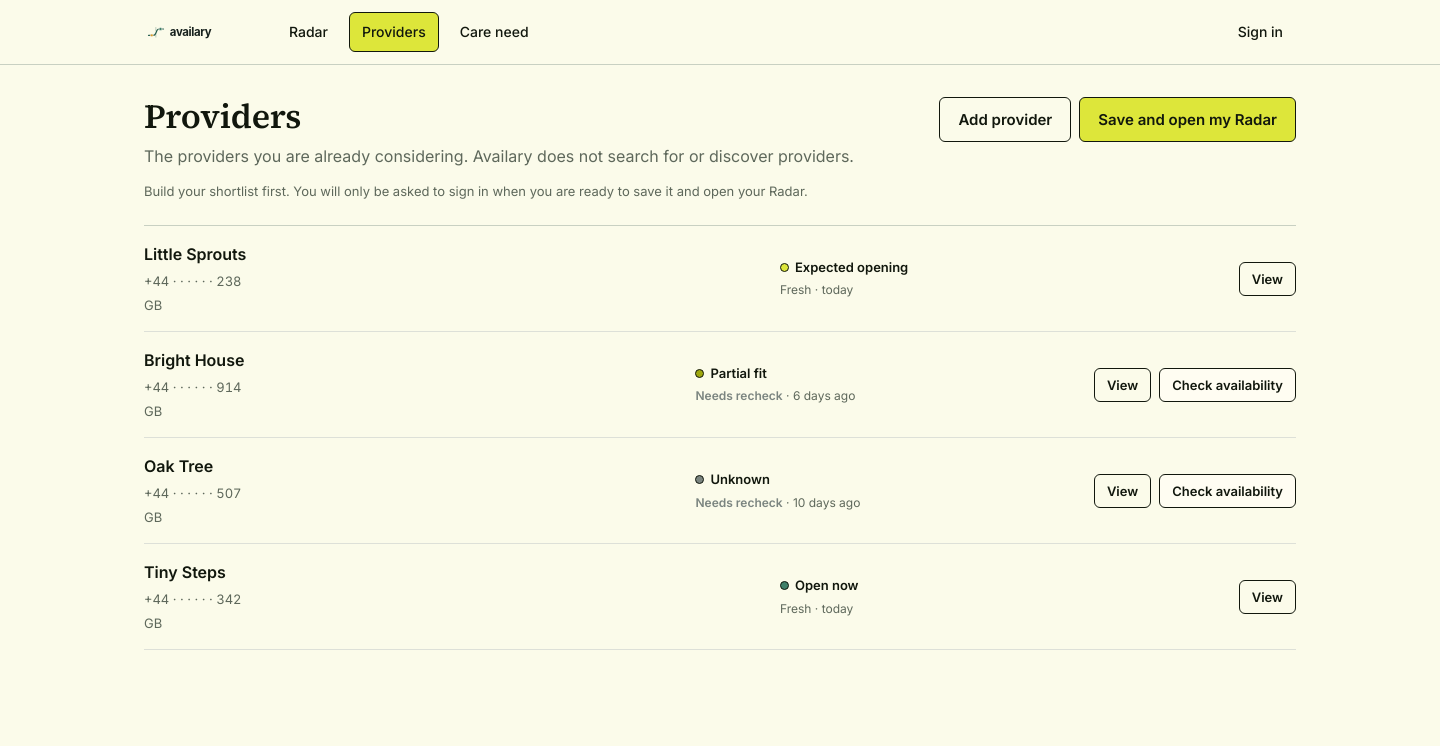
it: 3. saving from providers routes to sign in
Click the button "Save and open my Radar" at (1188, 120), box [1079,97,1296,142]
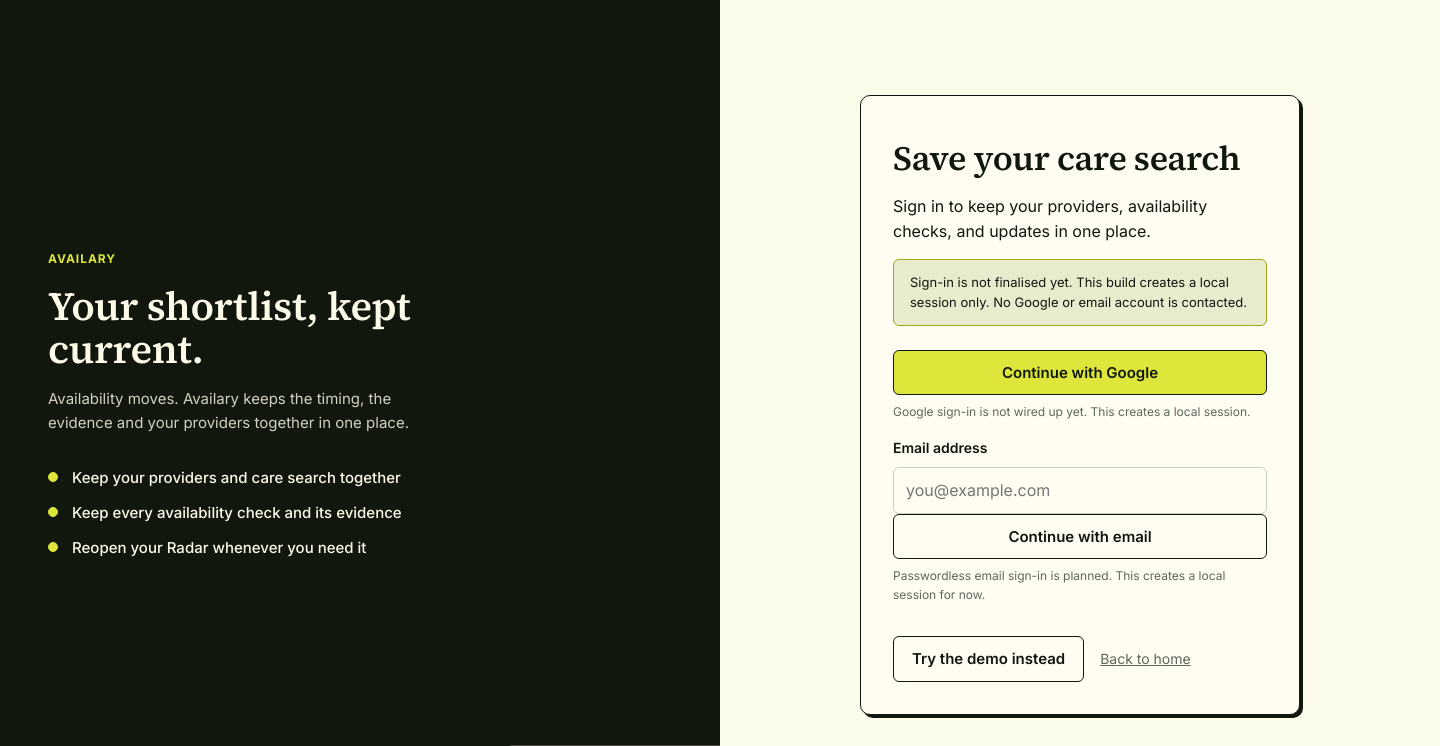
expect the heading "Save your care search" is shown: met, box [893,140,1267,178]
